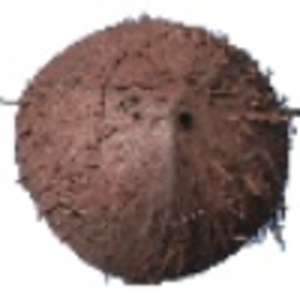coco: (11, 14, 300, 288)
